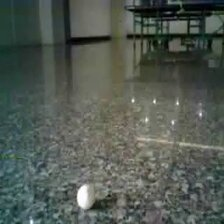w: (77, 184, 96, 208)
